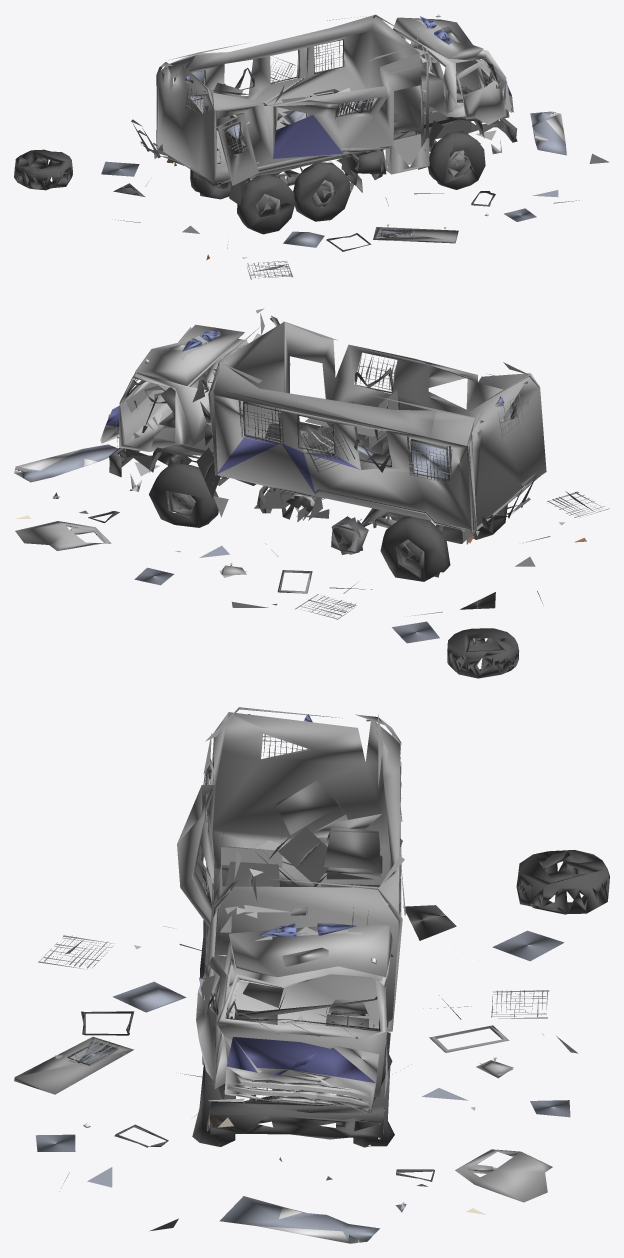
Rendered from wreck_avtozak_source.glb.
3 renders of one model, top to bottom at view 1: azimuth 30°, elevation 25°; view 2: azimuth 150°, elevation 25°; view 3: azimuth 270°, elevation 25°, orthographic. The views are drawn at different scales.
Parts seen in each view (by area): view 1: pCube536; view 2: pCube536; view 3: pCube536.
Boxes of the visible parts, x1=… form: pCube536: x1=14, y1=14, x2=609, y2=279; pCube536: x1=14, y1=308, x2=609, y2=678; pCube536: x1=14, y1=707, x2=609, y2=1243.
Size of the model in its own units: 2.35 by 0.7331 by 1.59.
